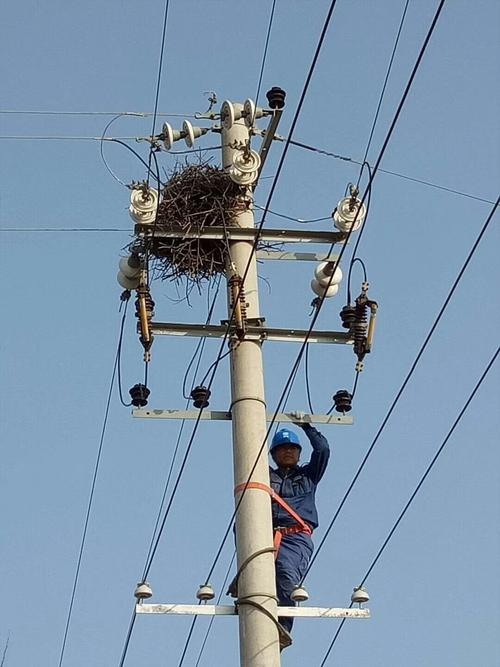niaowo: (146, 152, 250, 289)
